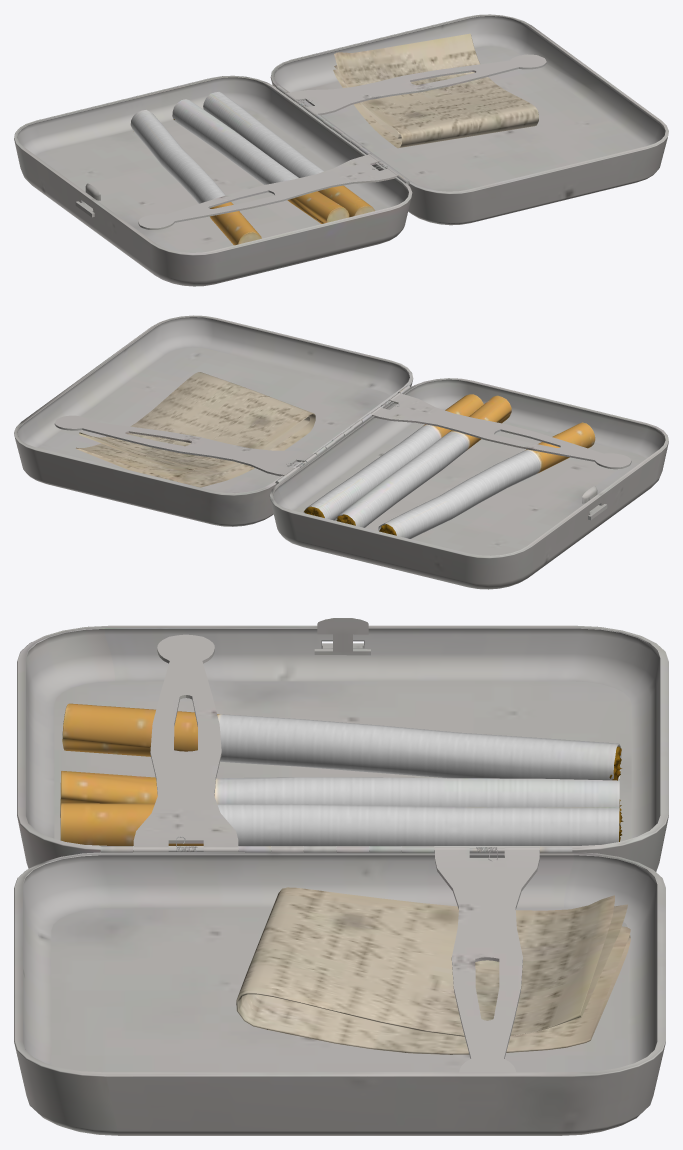
File: cigaretteCase.glb
3 renders of one model, top to bottom at view 1: azimuth 30°, elevation 25°; view 2: azimuth 150°, elevation 25°; view 3: azimuth 270°, elevation 25°, orthographic. The views are drawn at different scales.
Parts seen in each view (by area): view 1: cigarette_case_cover_b; view 2: cigarette_case_cover_b; view 3: cigarette_case_cover_b.
Boxes of the visible parts, box(x1,y1,x2,y2) form: cigarette_case_cover_b: box(14, 14, 668, 286); cigarette_case_cover_b: box(14, 315, 668, 589); cigarette_case_cover_b: box(14, 618, 668, 1135).
Size of the model in its own units: 0.1638 by 0.0151 by 0.1004.
1 material, 1 textured.
